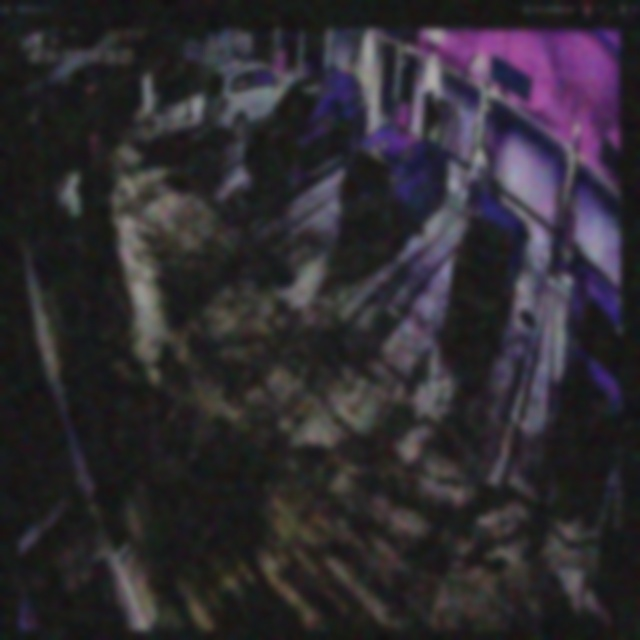Car: (244, 73, 368, 199), (343, 123, 448, 253), (448, 191, 530, 336)
